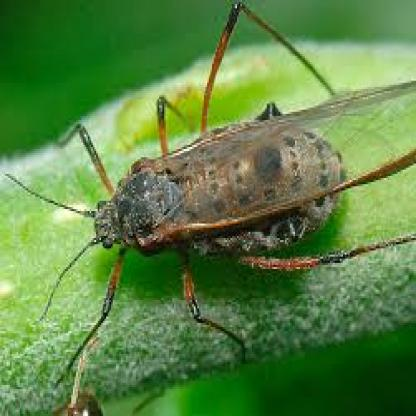aphid: (7, 1, 416, 375)
